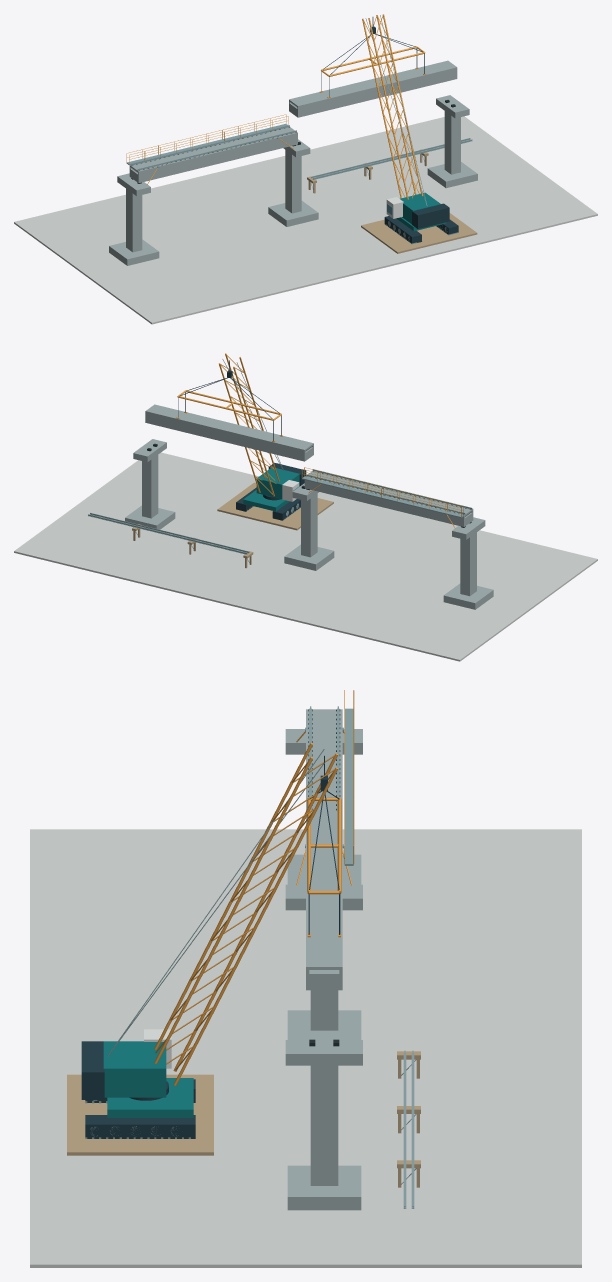
File: viaduct-crane.glb
3 views of the same model, one above another, from view 1: azimuth 30°, elevation 25°; view 2: azimuth 150°, elevation 25°; view 3: azimuth 270°, elevation 25° (orthographic). The views are drawn at different scales.
Visible parts, largest first — view 1: working-surface, suspended-beam-top, crane-working-mat, installed-beam-near-web, suspended-beam-near-web, installed-beam-top, pier-2, pier-1, pier-0, foundation-1, foundation-2, foundation-0 (+6 smaller); view 2: working-surface, suspended-beam-top, suspended-beam-far-web, crane-working-mat, installed-beam-far-web, installed-beam-top, pier-1, pier-0, pier-2, crane-machinery-house, foundation-0, foundation-1 (+5 smaller); view 3: working-surface, crane-working-mat, suspended-beam-top, pier-2, crane-machinery-house, foundation-2, installed-beam-top, crawler-track-1, crawler-centre-frame, headstock-2, foundation-1, access-deck (+9 smaller).
Boxes of the visible parts, x1,y1,x2,y2 form: working-surface: [14, 116, 597, 324]; suspended-beam-top: [289, 60, 457, 107]; crane-working-mat: [361, 213, 477, 253]; installed-beam-near-web: [138, 134, 297, 181]; suspended-beam-near-web: [297, 69, 457, 116]; installed-beam-top: [129, 127, 297, 172]; pier-2: [444, 111, 460, 174]; pier-1: [285, 150, 301, 213]; pier-0: [126, 189, 142, 252]; foundation-1: [268, 201, 318, 226]; foundation-2: [427, 162, 477, 188]; foundation-0: [109, 239, 159, 265]; working-surface: [14, 452, 597, 661]; suspended-beam-top: [145, 404, 313, 451]; suspended-beam-far-web: [145, 412, 305, 459]; crane-working-mat: [217, 482, 333, 530]; installed-beam-far-web: [304, 480, 464, 525]; installed-beam-top: [305, 471, 473, 516]; pier-1: [301, 493, 317, 557]; pier-0: [460, 532, 476, 596]; pier-2: [142, 455, 158, 518]; crane-machinery-house: [256, 467, 299, 499]; foundation-0: [443, 583, 493, 609]; foundation-1: [284, 544, 334, 570]; working-surface: [30, 829, 581, 1267]; crane-working-mat: [67, 1074, 213, 1155]; suspended-beam-top: [306, 811, 342, 969]; pier-2: [310, 1065, 338, 1185]; crane-machinery-house: [103, 1041, 166, 1097]; foundation-2: [287, 1165, 361, 1210]; installed-beam-top: [306, 709, 342, 811]; crawler-track-1: [85, 1115, 195, 1138]; crawler-centre-frame: [107, 1078, 193, 1117]; headstock-2: [285, 1040, 362, 1065]; foundation-1: [287, 1010, 361, 1039]; access-deck: [344, 708, 353, 865].
Size of the model in its own units: 56 by 22.2 by 30.
